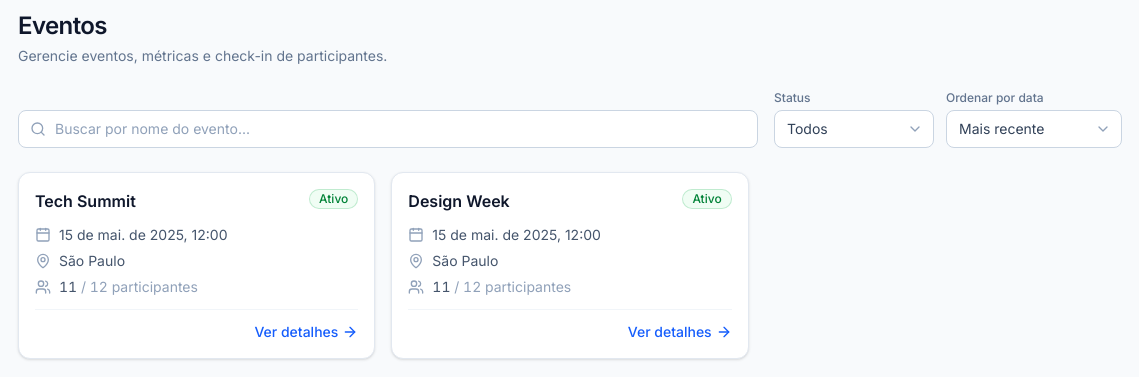
Test: Listagem de Eventos › Busca por nome com debounce filtra a lista
The width and height of the screenshot is (1139, 377).
Type "Design" into the search field named "Buscar eventos" at point(388, 129), box [18,110,758,148]
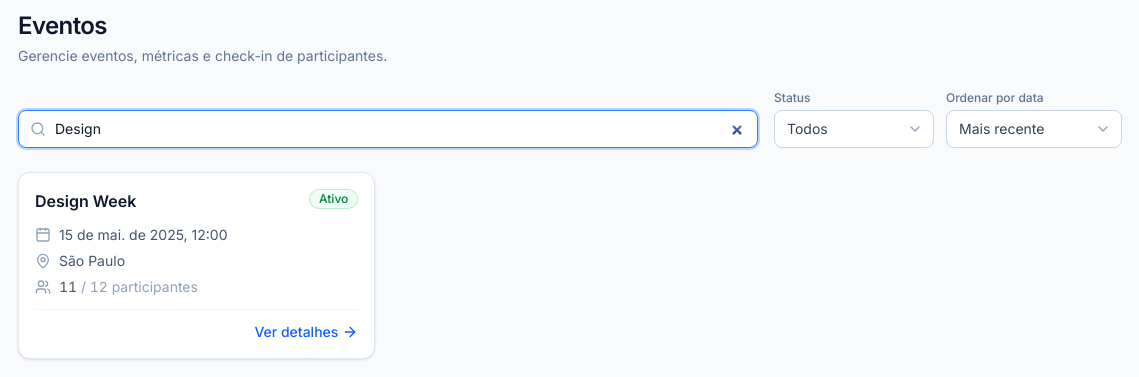
Expected: the heading "Design Week" is shown, [35,189,136,213]
Result: no links "Tech Summit" are shown
